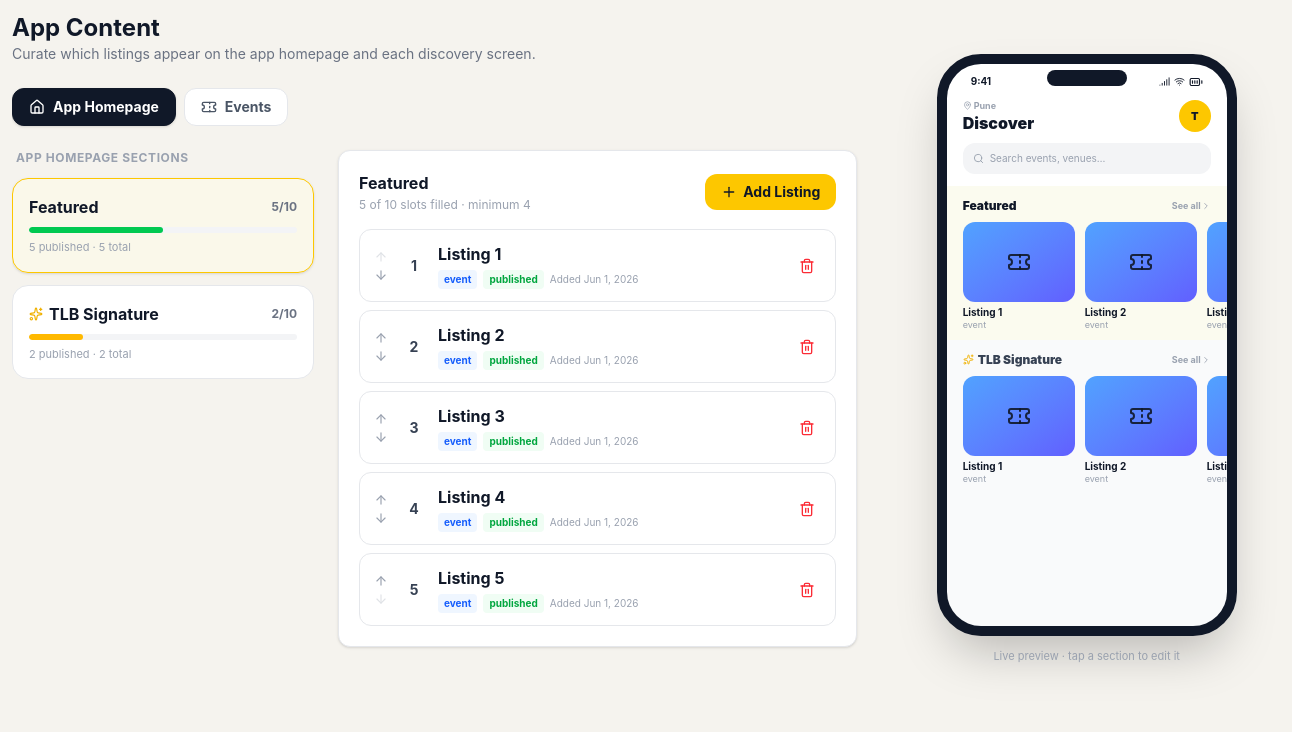
Test: UserAppAlignment › shows the TLB Signature hint on that homepage section
Click the text "TLB Signature" below "Sections". click: (94, 314)
box: [29,302,159,326]
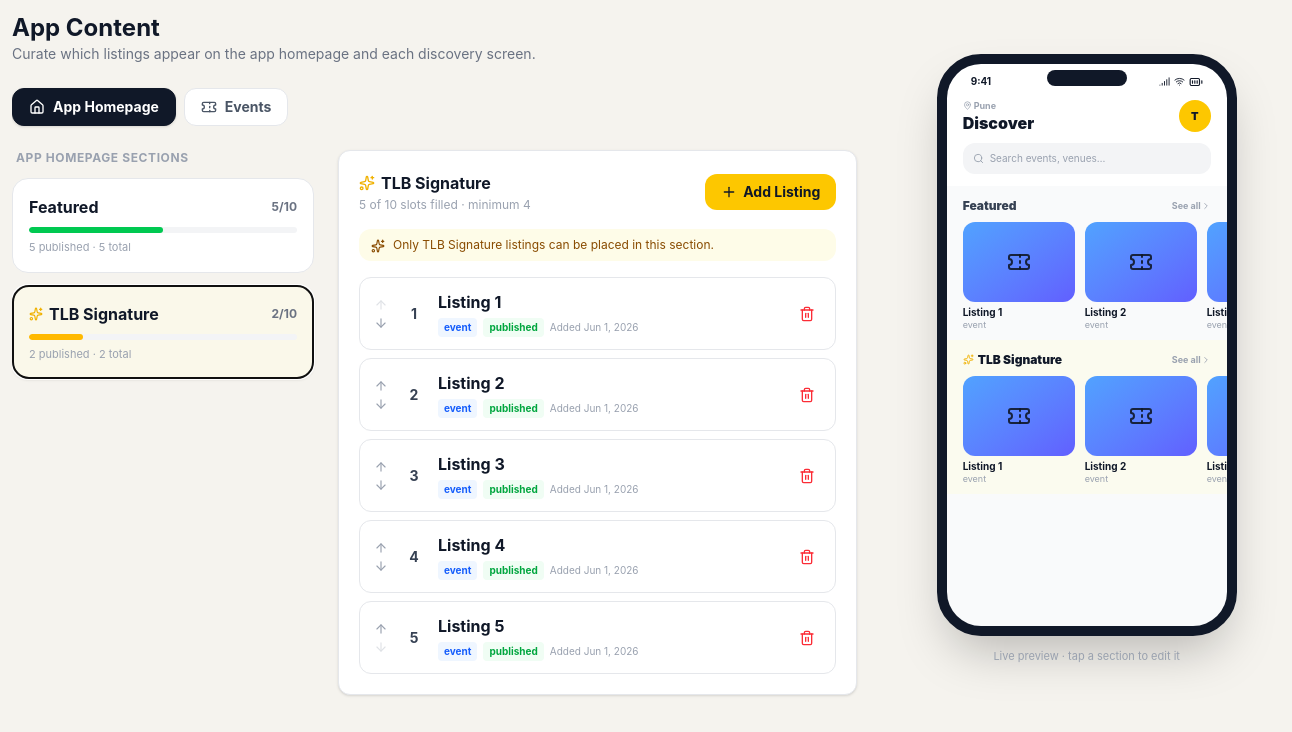
Expected: the text "Only TLB Signature listings can be placed in this section." is shown, [359,229,836,261]
